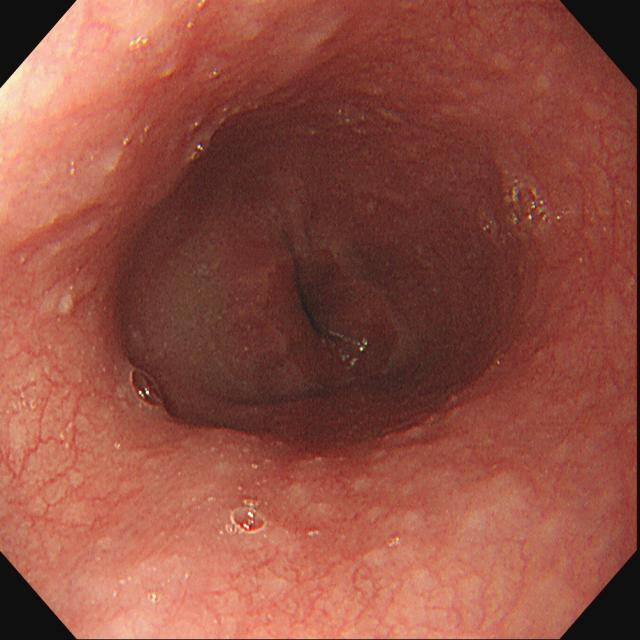I: (223, 221, 436, 416)
T: (499, 166, 566, 236), (222, 497, 275, 539), (129, 365, 168, 415)
